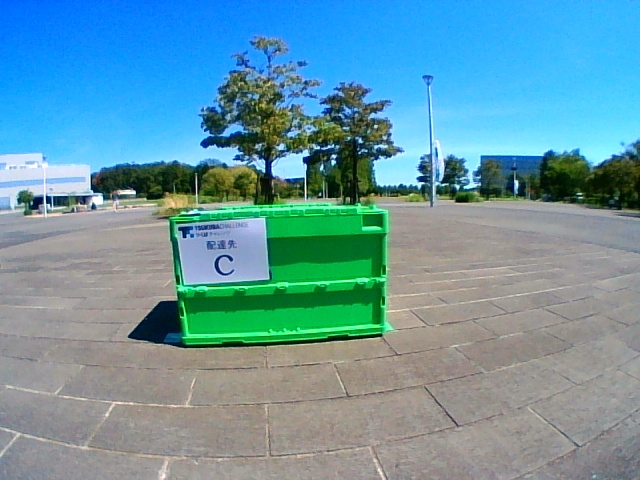green_box: (169, 202, 389, 345)
tag_c: (189, 225, 264, 281)
